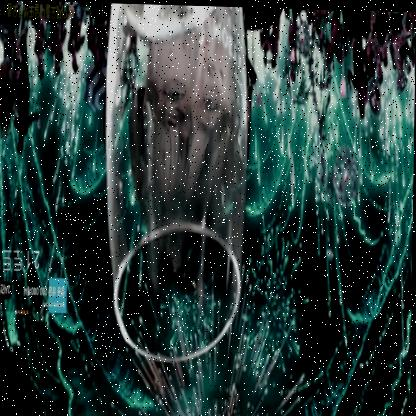streamer: (106, 3, 286, 365)
